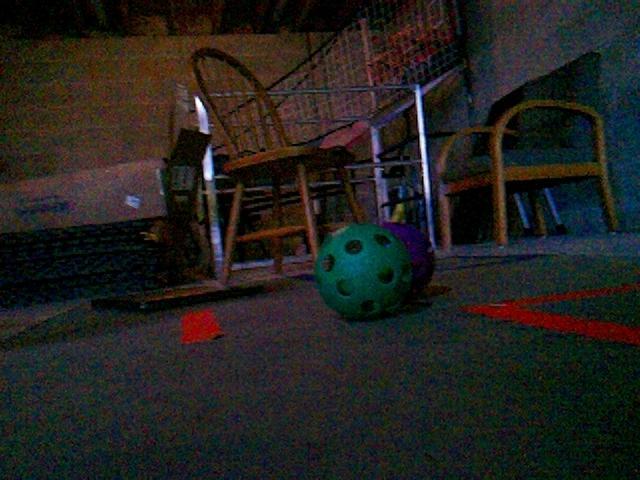Green: (311, 222, 413, 319)
Purple: (382, 221, 435, 294)
